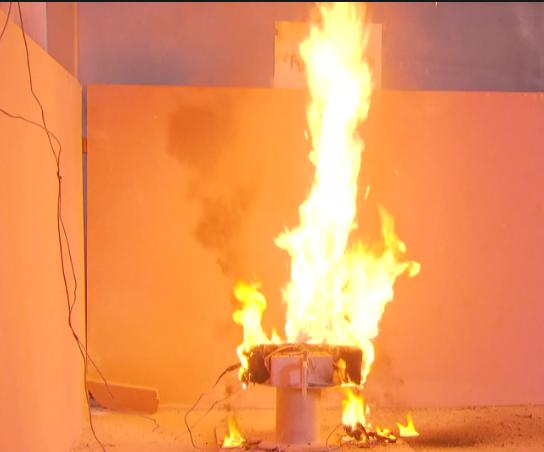fire: (274, 1, 419, 392), (234, 279, 281, 383), (342, 389, 372, 432), (223, 418, 242, 446)
